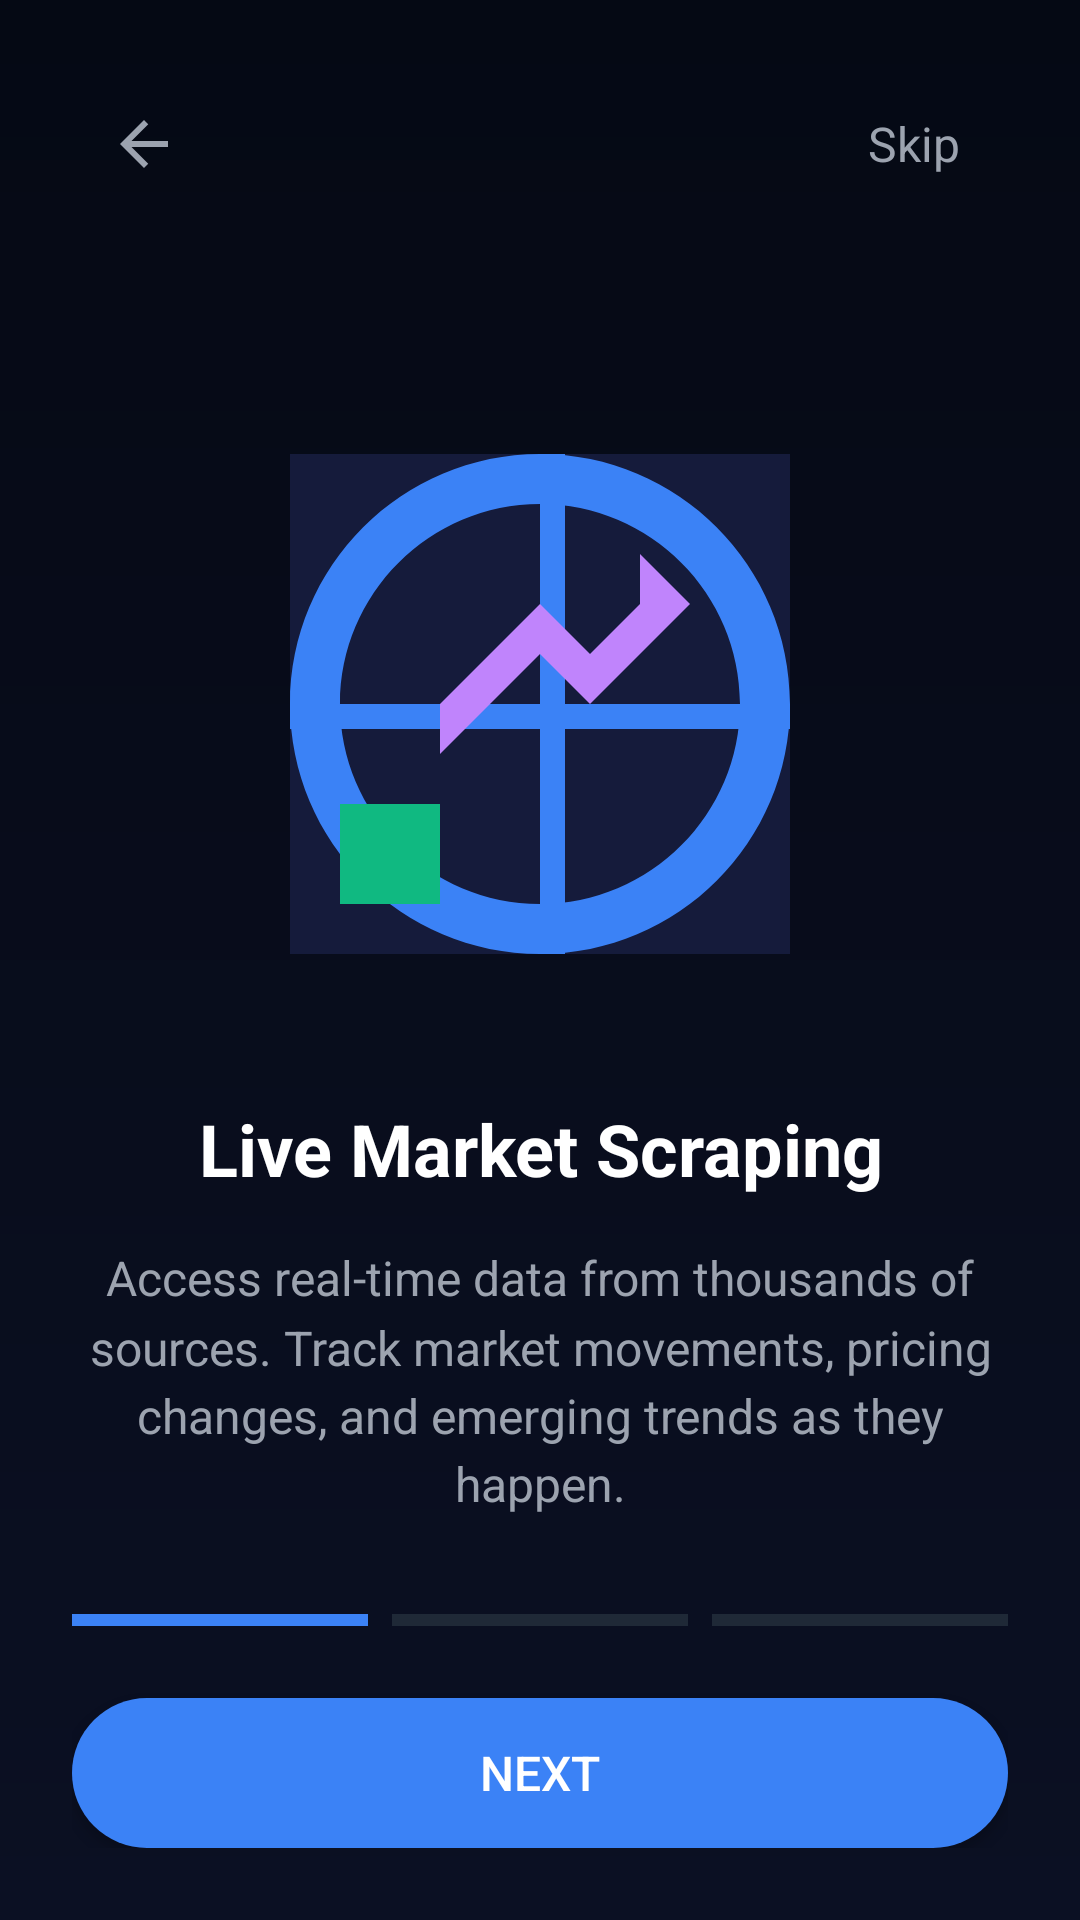

Icons on this 1080x1920 Android screen, each with its box as (x1, y1, x2, y2):
back arrow: (120, 120, 168, 168)
